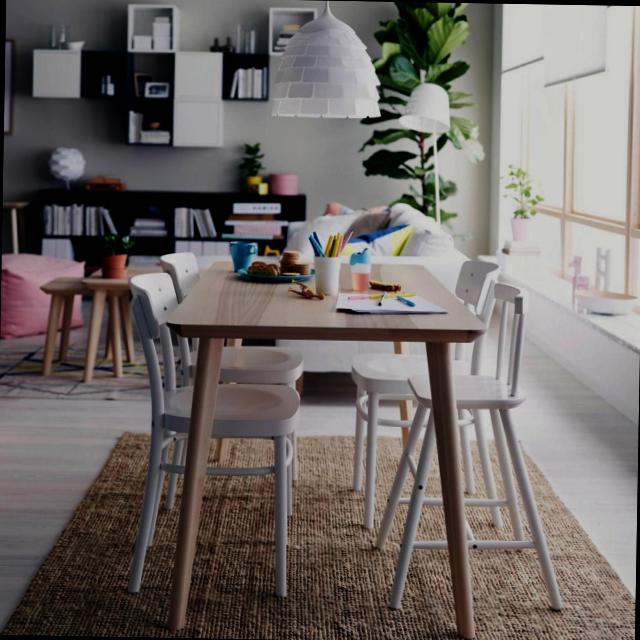obstacle: (122, 220, 534, 640), (34, 226, 134, 392)
